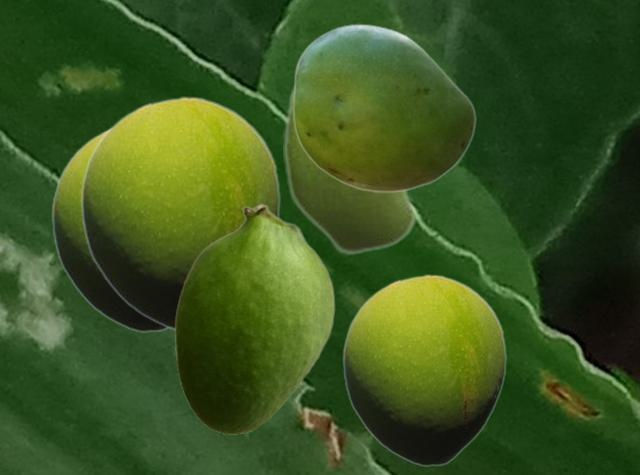green_mango: (80, 96, 280, 331), (174, 203, 334, 433), (342, 274, 506, 466), (292, 23, 475, 192), (51, 126, 167, 332), (283, 85, 419, 255)
